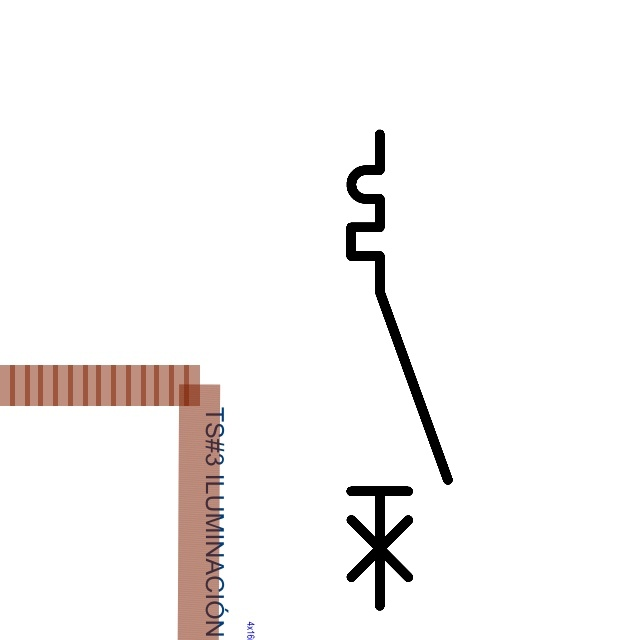interruptor_termomagnetico: (339, 122, 460, 618)
